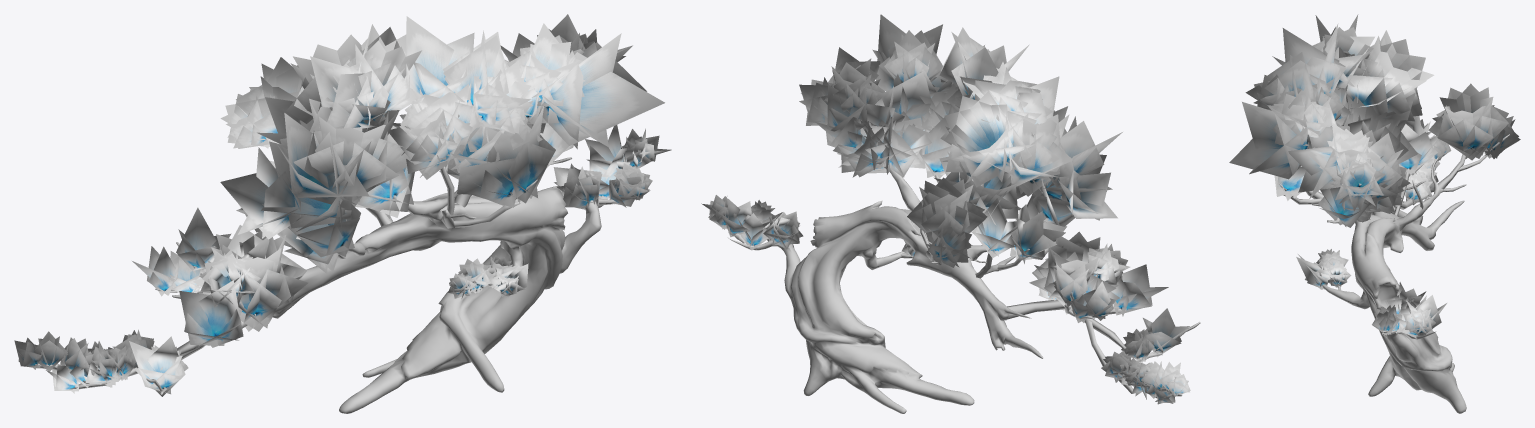
The model's file is CLX_shu_10.FBX.
3 renders of one model, left to right at view 1: azimuth 30°, elevation 25°; view 2: azimuth 150°, elevation 25°; view 3: azimuth 270°, elevation 25°, orthographic. The views are drawn at different scales.
Parts seen in each view (by area): view 1: CLX_shu_10; view 2: CLX_shu_10; view 3: CLX_shu_10.
Boxes of the visible parts, x1=… form: CLX_shu_10: x1=14, y1=14, x2=671, y2=413; CLX_shu_10: x1=701, y1=14, x2=1200, y2=413; CLX_shu_10: x1=1229, y1=14, x2=1520, y2=413.
Bounding box in the file's own units: 29.25 × 18.7 × 14.85.
